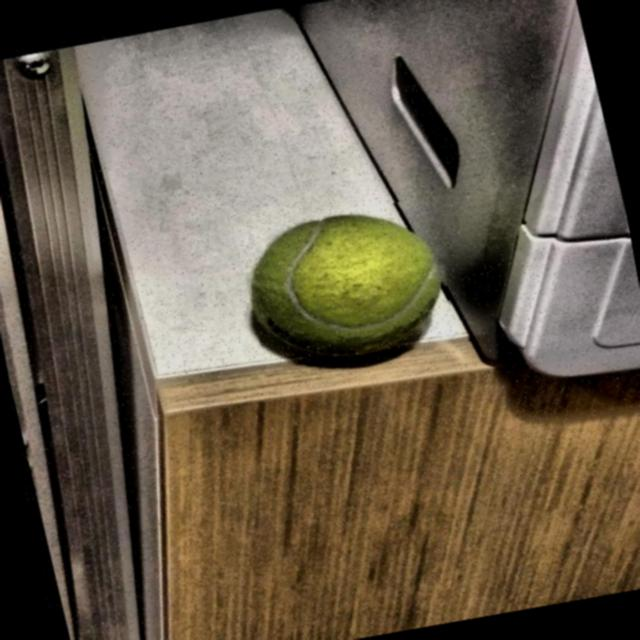tennis-ball: (233, 192, 460, 378)
